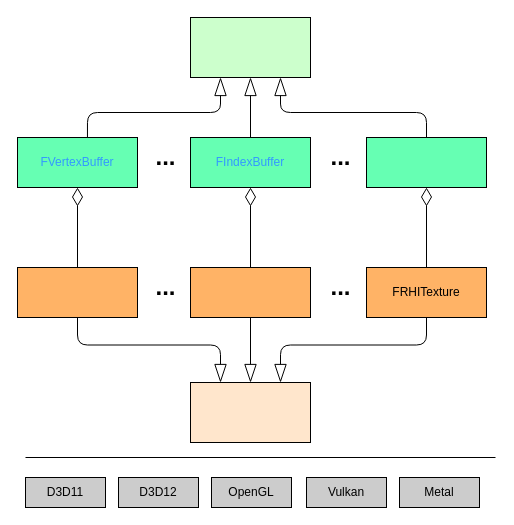
This 514x525 diagram has some shape labels left out. Here are the shapes that lost their labels. From the top down, the centre of each, then its label:
[250,47]: FRenderResource
[426,162]: FTexture
[77,292]: FRHIVertexBuffer
[250,292]: FRHIIndexBuffer
[250,412]: FRHIResource
